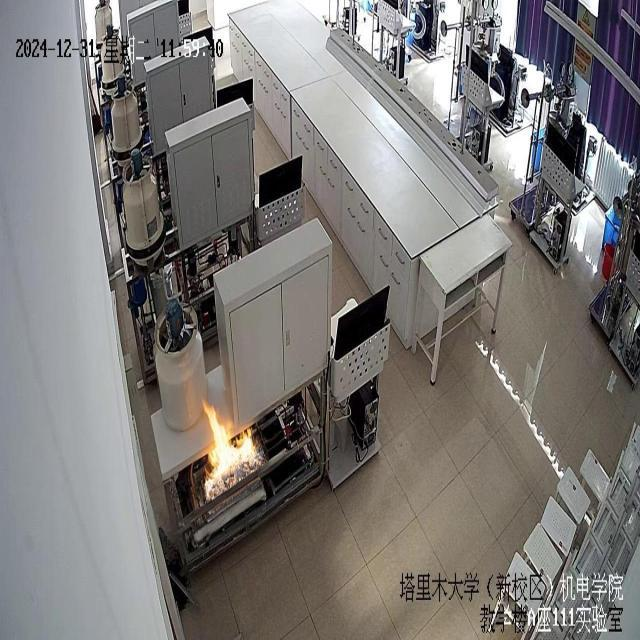smoke: (202, 398, 257, 492)
